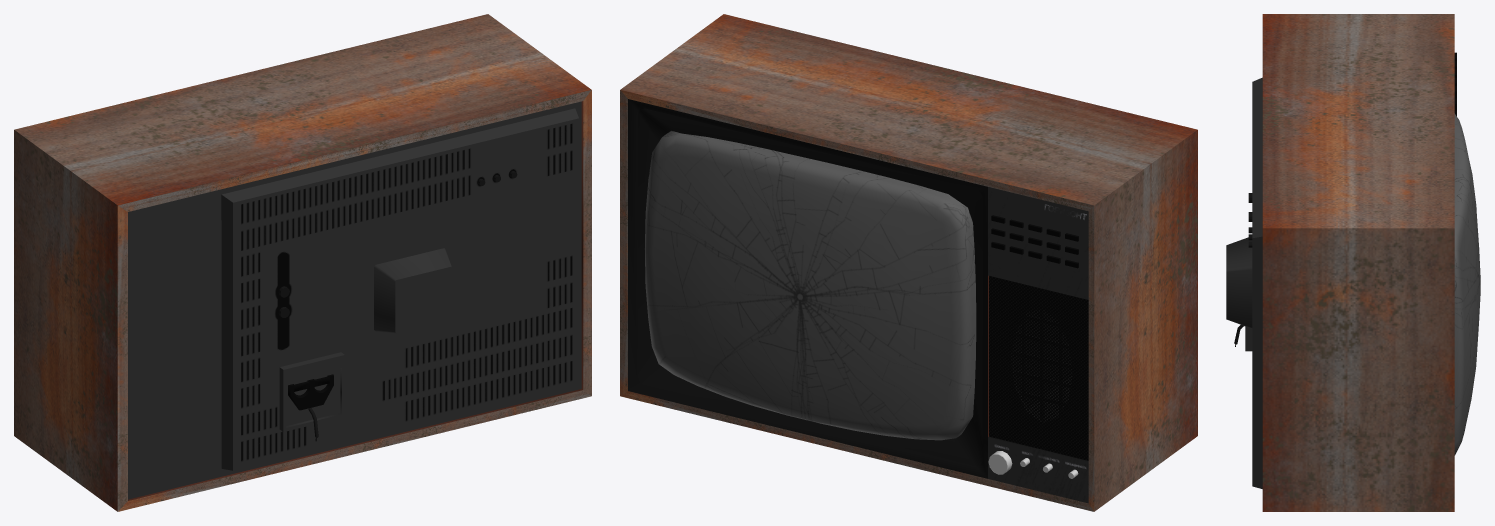
Rendered from old_tv.fbx.
3 views of the same model, side by side, from view 1: azimuth 30°, elevation 25°; view 2: azimuth 150°, elevation 25°; view 3: azimuth 270°, elevation 25° (orthographic). The views are drawn at different scales.
Parts seen in each view (by area): view 1: old_tv; view 2: old_tv; view 3: old_tv.
Part boxes in pixels (bbox=[...]): old_tv: bbox=[14, 14, 591, 511]; old_tv: bbox=[620, 14, 1197, 511]; old_tv: bbox=[1226, 14, 1480, 511].
Size of the model in its own units: 0.5565 by 0.3438 by 0.2793.
